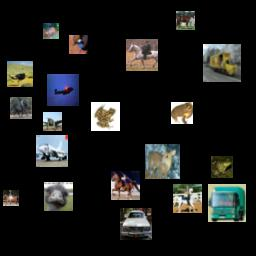airplane: (36, 135, 68, 167), (47, 74, 79, 106), (43, 112, 62, 131)
automobile: (120, 208, 152, 240)
bird: (44, 182, 73, 211), (7, 61, 33, 87), (69, 35, 88, 54)
deer: (145, 144, 180, 179), (43, 23, 59, 39)
frog: (91, 102, 120, 131), (171, 102, 193, 124), (211, 156, 233, 178)
truck: (208, 184, 246, 222), (203, 44, 241, 82)
